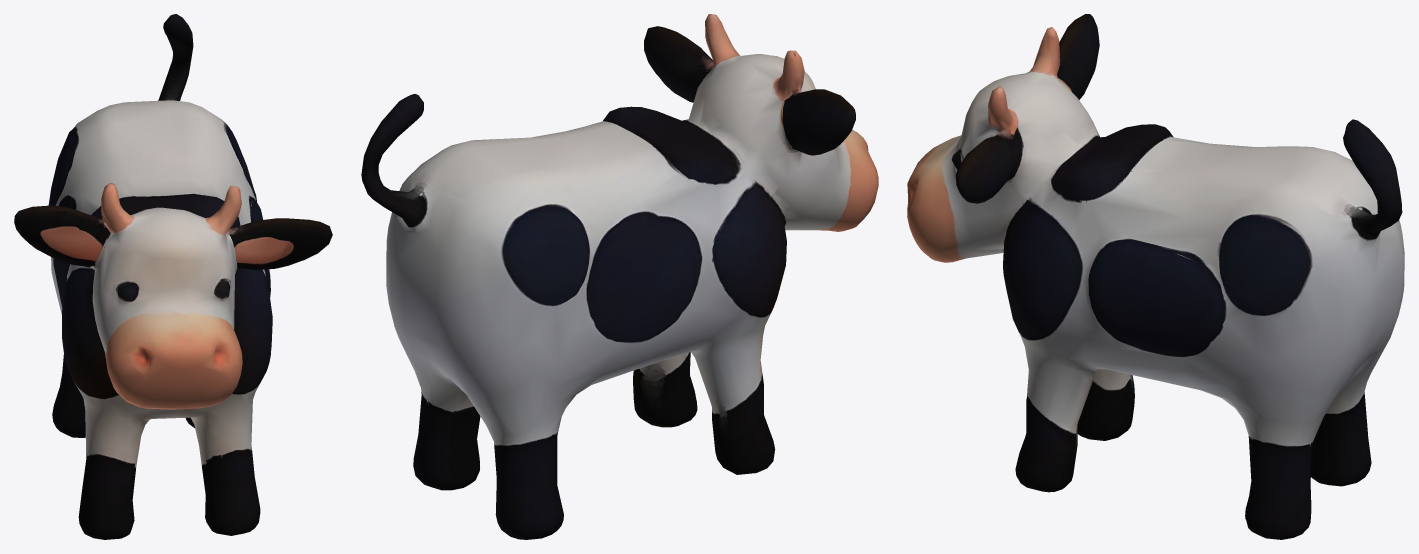
Rendered from Cow.glb.
3 renders of one model, left to right at view 1: azimuth 30°, elevation 25°; view 2: azimuth 150°, elevation 25°; view 3: azimuth 270°, elevation 25°, orthographic. The views are drawn at different scales.
Parts seen in each view (by area): view 1: 3d66-Editable_Poly-23201351-002; view 2: 3d66-Editable_Poly-23201351-002; view 3: 3d66-Editable_Poly-23201351-002.
Part boxes in pixels (x1=…): 3d66-Editable_Poly-23201351-002: x1=14, y1=14, x2=332, y2=539; 3d66-Editable_Poly-23201351-002: x1=361, y1=14, x2=878, y2=539; 3d66-Editable_Poly-23201351-002: x1=907, y1=14, x2=1404, y2=539.
Bounding box in the file's own units: 0.7184 × 0.8181 × 0.9037.
1 material, 1 textured.
